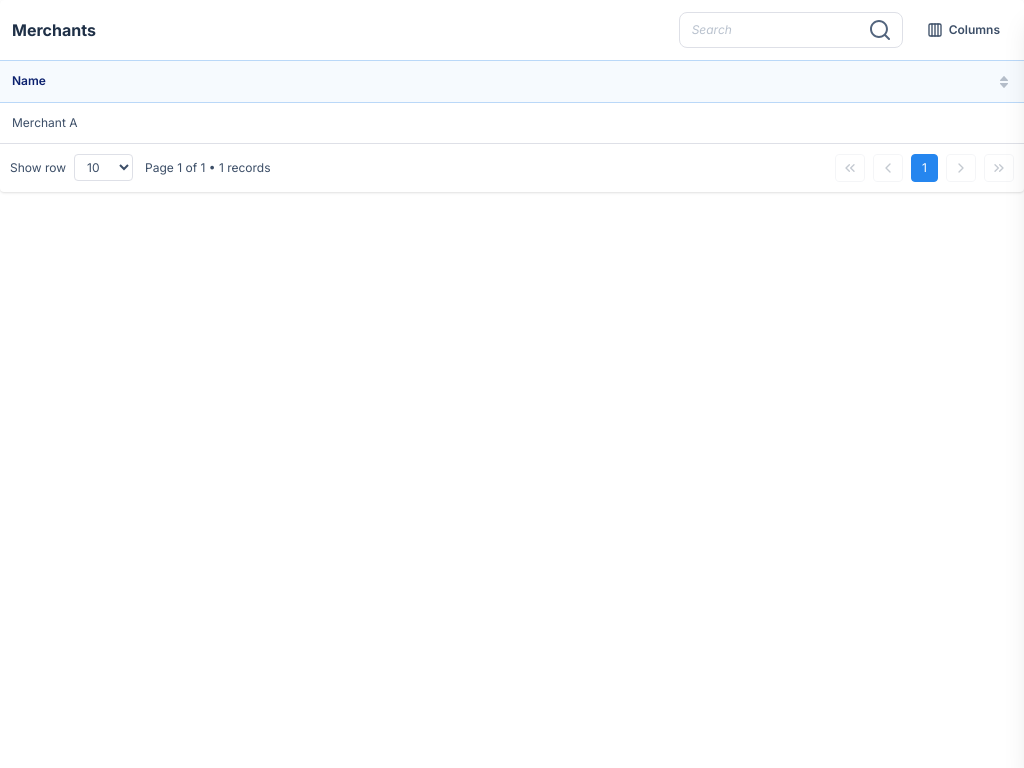
Test: GenericTable — columns drawer › refuses to apply an empty grid
The image size is (1024, 768).
Expected: the text "Merchant A" is shown, [0,102,1023,143]
Click the button "Columns" at point(963, 30), box [915,12,1012,48]
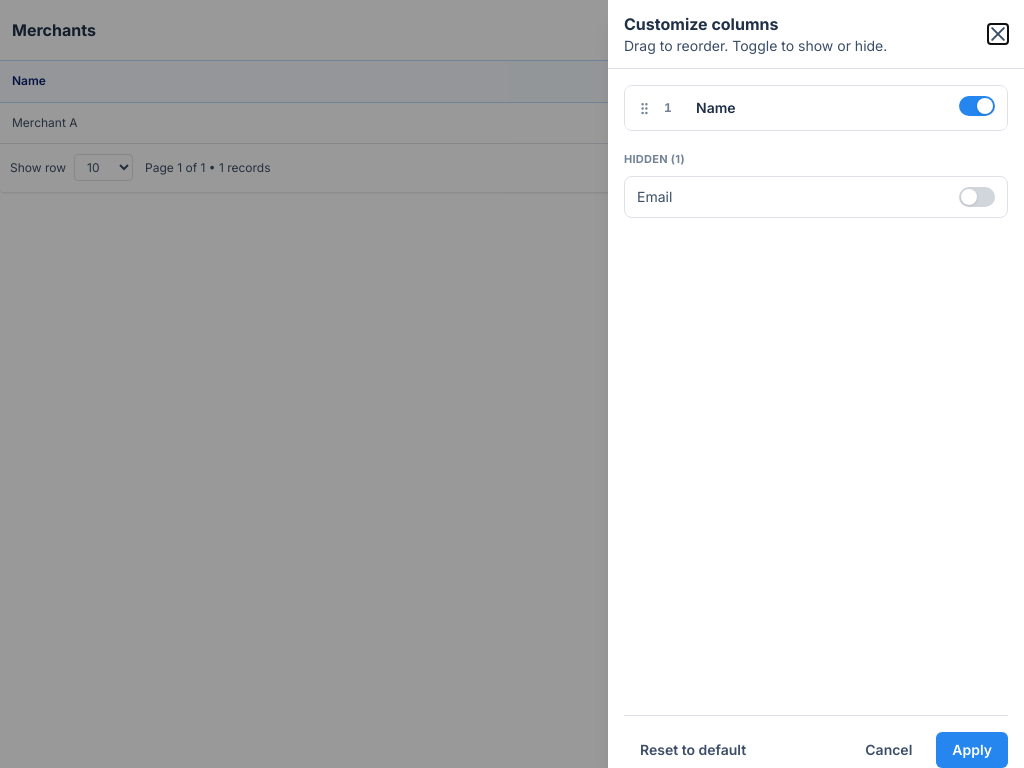
Click the switch named "Hide Name" at point(977, 106), box [959,96,995,116]
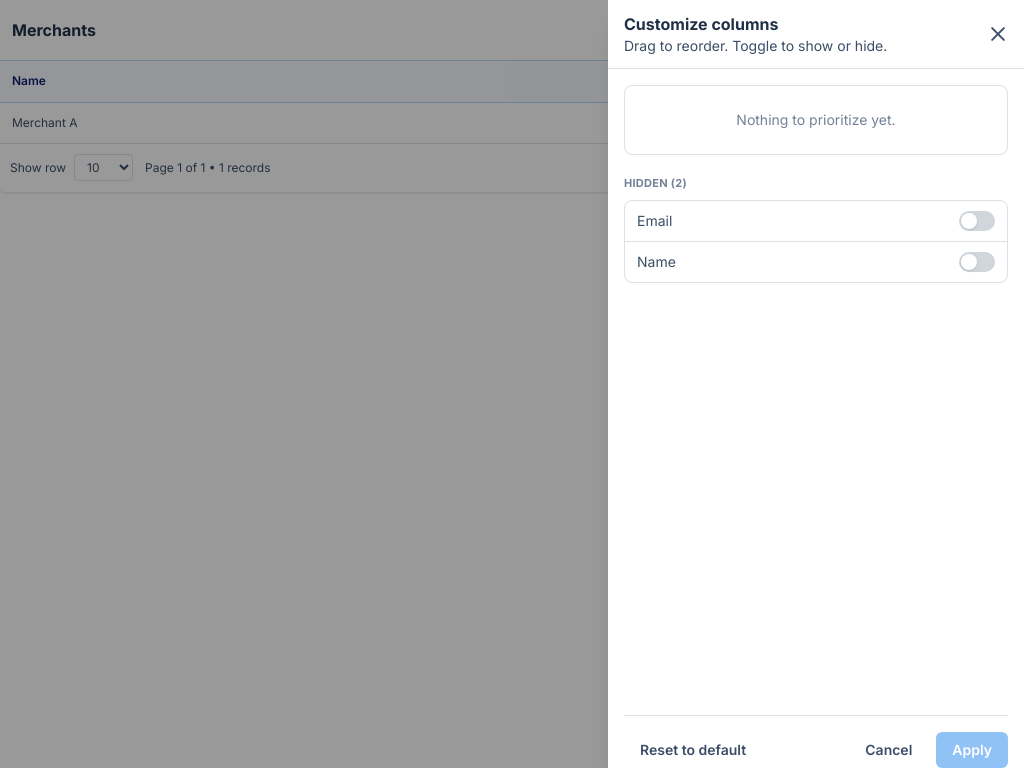
Expected: the button "Apply" is disabled, [936,732,1008,767]
